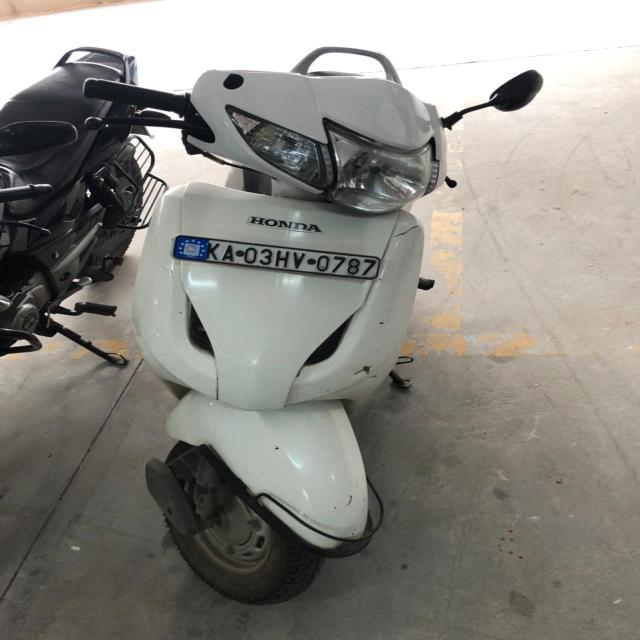license_plate: (171, 234, 381, 280)
